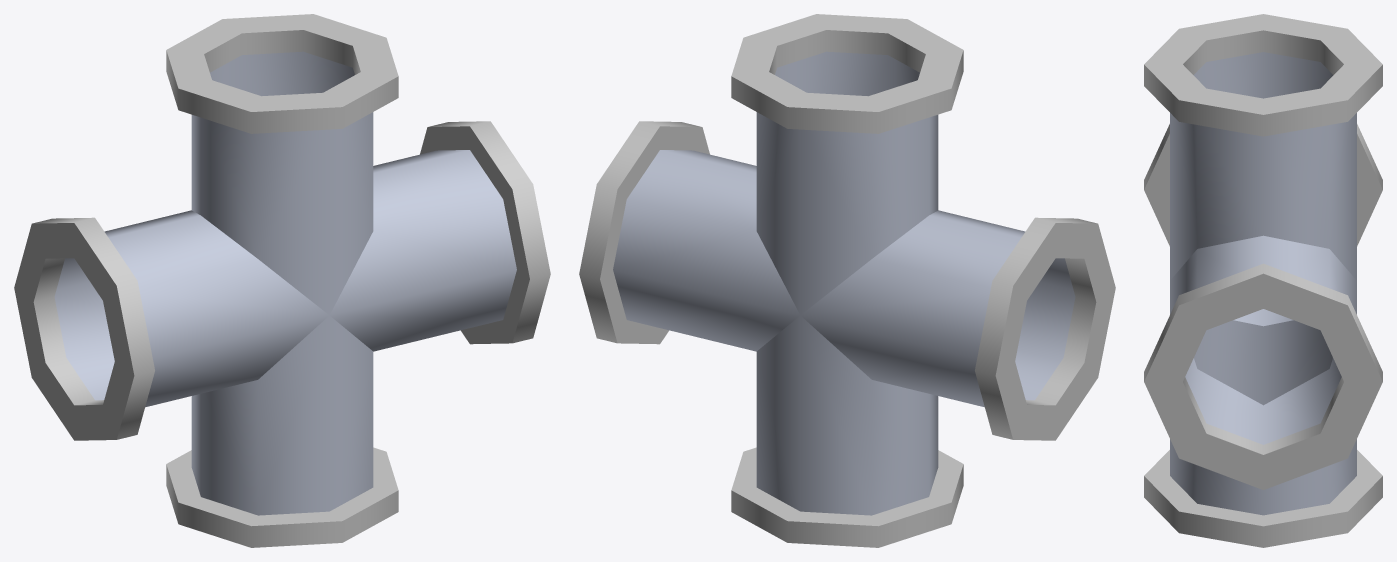
File: pipe-glass-large-cross.obj
3 renders of one model, left to right at view 1: azimuth 30°, elevation 25°; view 2: azimuth 150°, elevation 25°; view 3: azimuth 270°, elevation 25°, orthographic.
Parts seen in each view (by area): view 1: pipe-glass-large-cross; view 2: pipe-glass-large-cross; view 3: pipe-glass-large-cross.
Boxes of the visible parts, x1,y1,x2,y2 form: pipe-glass-large-cross: [14, 14, 550, 547]; pipe-glass-large-cross: [579, 14, 1115, 547]; pipe-glass-large-cross: [1144, 14, 1382, 547].
Size of the model in its own units: 2 by 2 by 1.
